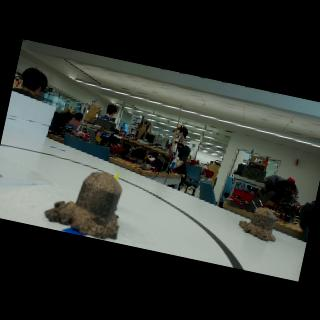teletubby: (113, 171, 119, 180)
